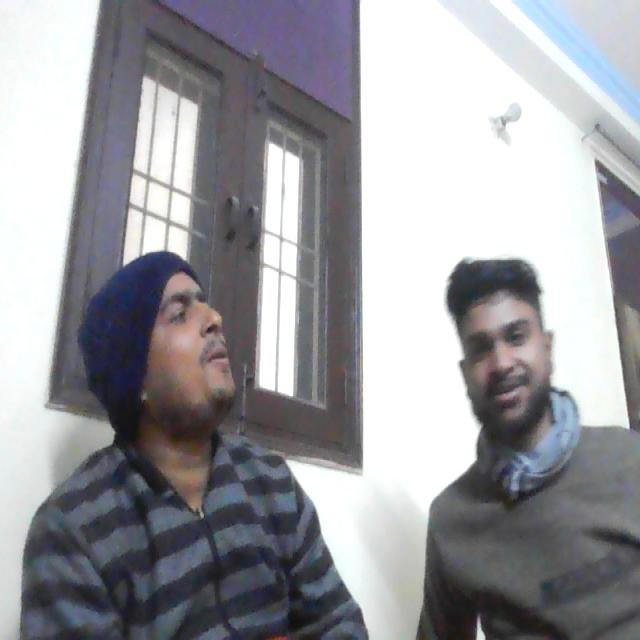real: (123, 185, 251, 427), (452, 244, 551, 432)
